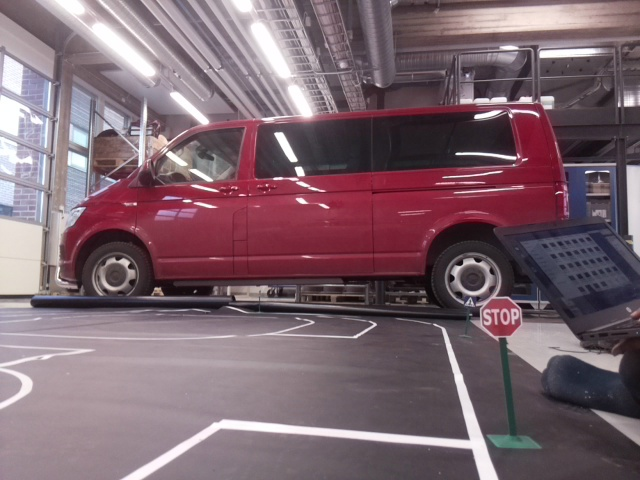Crosswalk: (463, 295, 474, 309)
Stop: (482, 295, 523, 338)
